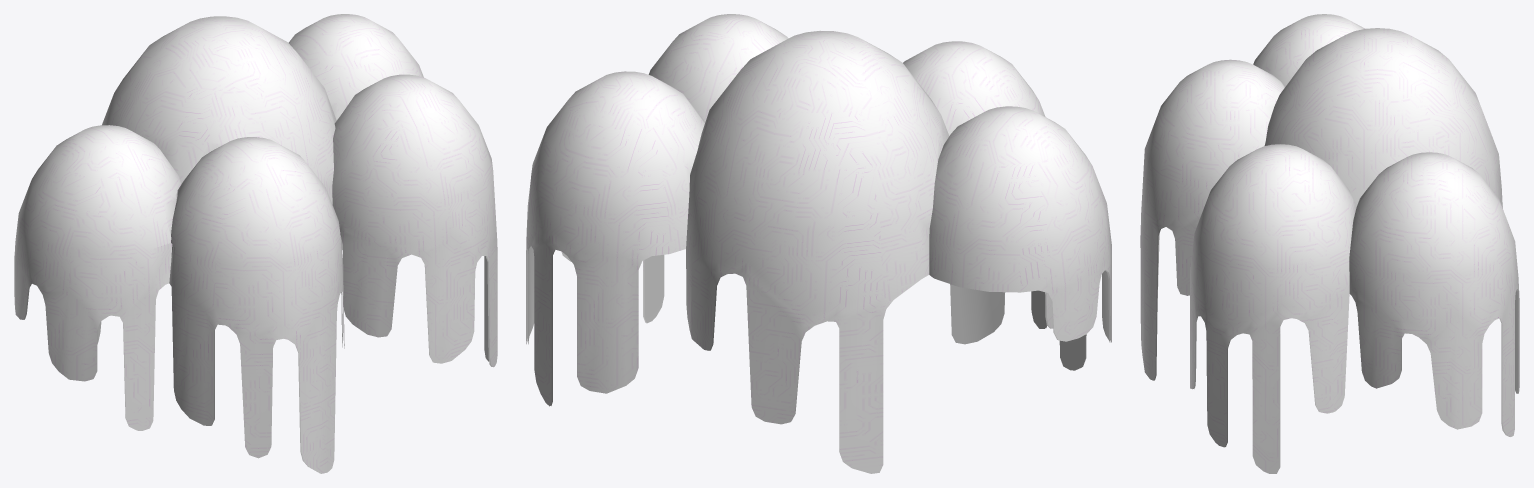
Rendered from DomeExtra01_Art.fbx.
The picture shows the model from 3 angles, left to right: view 1: azimuth 30°, elevation 25°; view 2: azimuth 150°, elevation 25°; view 3: azimuth 270°, elevation 25°; orthographic projection. The views are drawn at different scales.
Visible parts, largest first — view 1: DomeExtra01_Art; view 2: DomeExtra01_Art; view 3: DomeExtra01_Art.
Part boxes in pixels (x1,y1,x2,y2): DomeExtra01_Art: (14,14,497,473); DomeExtra01_Art: (526,14,1111,473); DomeExtra01_Art: (1140,14,1519,473).
Size of the model in its own units: 37.76 by 28.6 by 28.26.
